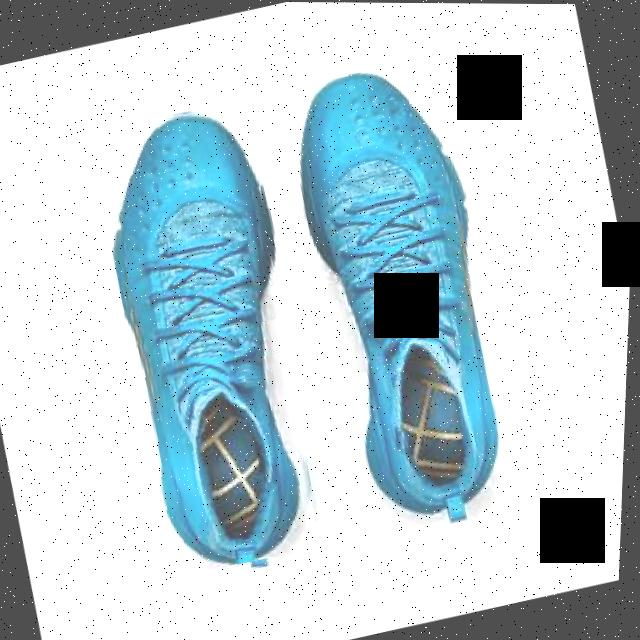shoe: (77, 95, 350, 578), (269, 52, 541, 531)
